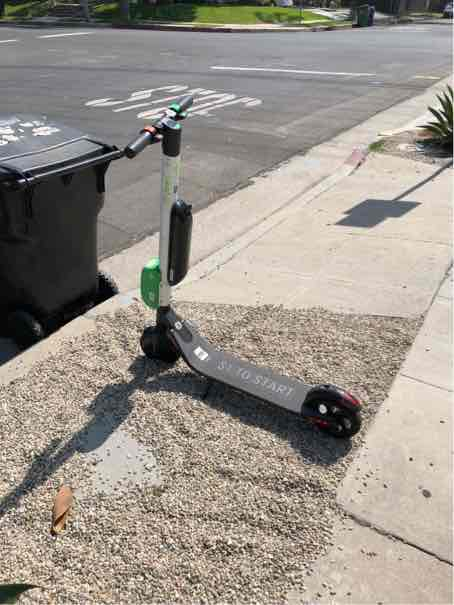scooter: (116, 84, 367, 445)
